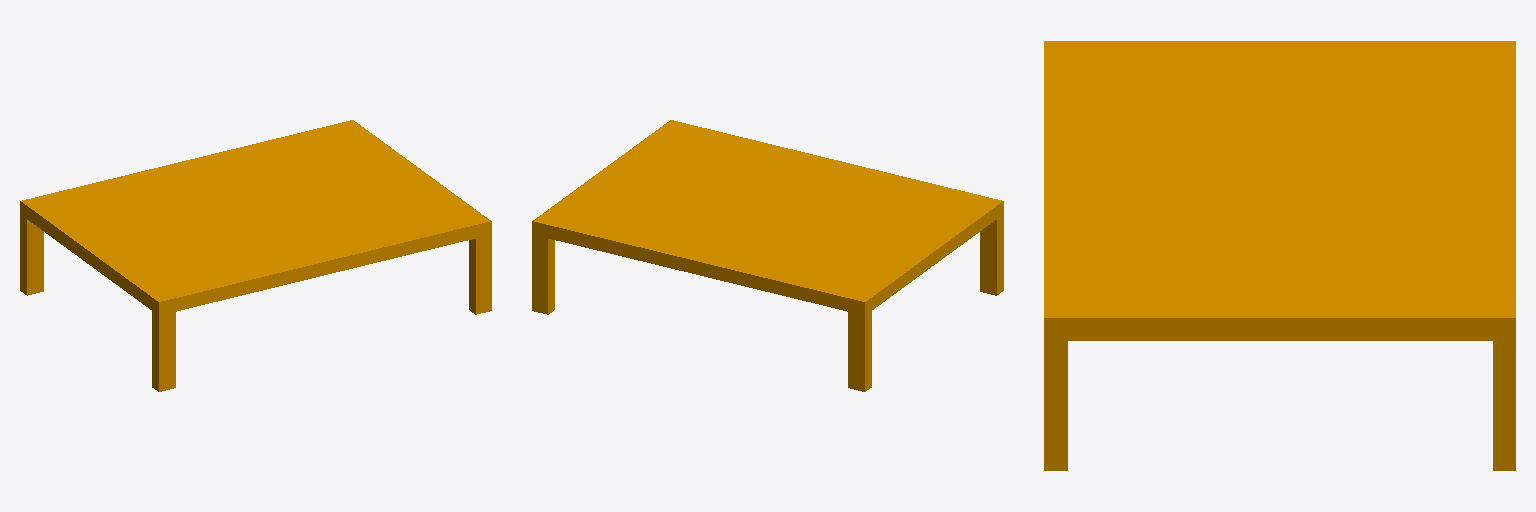
URDF robot description (table):
<?xml version="1.0"?>
<robot name="table">
    <link name="base_link">
        <inertial>
            <origin xyz="0 0 0" rpy="0 0 0"/>
            <mass value="30"/>
            <inertia ixx="3.725"  ixy="0"  ixz="0" iyy="3.725" iyz="0" izz="3.725" />
        </inertial>

        <visual>
            <origin xyz="0 0 0" rpy="0 0 0" />
            <geometry>
                <mesh filename="table_3.dae" scale="1 1 1" />
            </geometry>
        </visual>

        <collision>
            <origin xyz="0 0 0" rpy="0 0 0"/>
            <geometry>
                <mesh filename="table.stl" scale="1 1 1" />
            </geometry>
        </collision>
    </link>
</robot>

--- Facts derived from the render (not from the file) ---
Views: 3 orthographic renders of the robot side by side, from view 1: azimuth 30°, elevation 25°; view 2: azimuth 150°, elevation 25°; view 3: azimuth 270°, elevation 25°.
Model table with 1 links and 0 joints (none), rooted at base_link, posed all joints at 0.
Links seen in each view (by area): view 1: base_link; view 2: base_link; view 3: base_link.
Boxes of the visible links, x1,y1,x2,y2 form: base_link: (20,120,491,391); base_link: (532,120,1003,391); base_link: (1044,41,1515,470).
Size in the robot's own frame: 2.97 by 2.14 by 0.767 metres.
1 mesh visuals loaded from 1 distinct referenced files (1 Collada DAE).